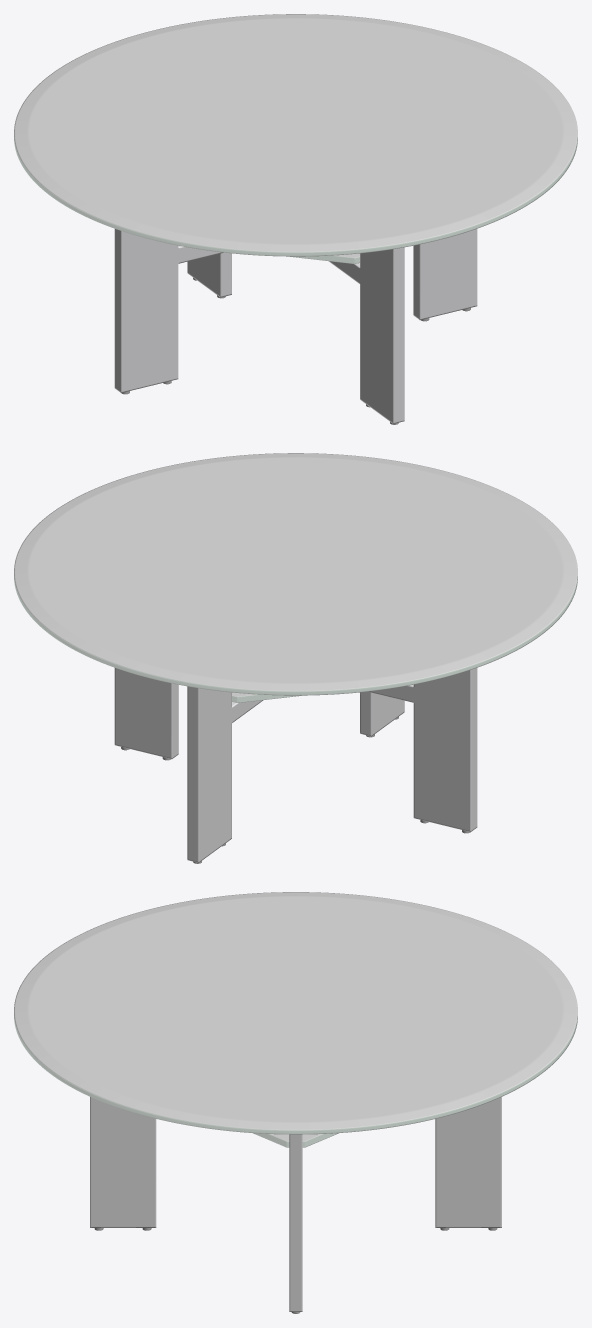
File: coffeetable47826.glb
3 renders of one model, top to bottom at view 1: azimuth 30°, elevation 25°; view 2: azimuth 150°, elevation 25°; view 3: azimuth 270°, elevation 25°, orthographic.
Visible parts, largest first — view 1: 3112033; view 2: 3112033; view 3: 3112033.
Boxes of the visible parts, x1=… form: 3112033: x1=14, y1=14, x2=577, y2=424; 3112033: x1=14, y1=453, x2=577, y2=863; 3112033: x1=14, y1=892, x2=577, y2=1313.
Size of the model in its own units: 0.85 by 0.365 by 0.85.
Materials: 3 (1 with a texture image).
